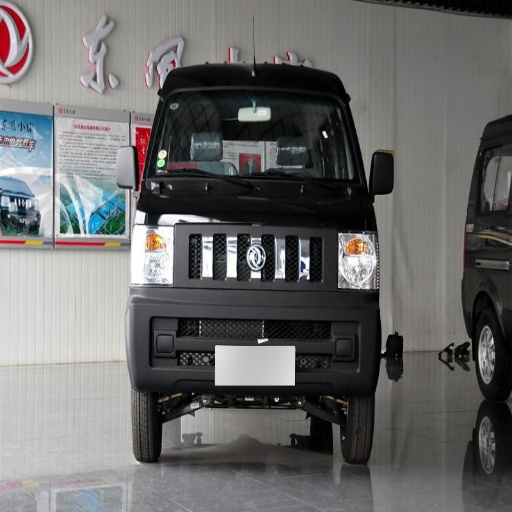front_bumper: (132, 304, 325, 392), (335, 292, 378, 387)
hood: (313, 197, 363, 271)
trunk: (161, 179, 318, 271), (159, 284, 213, 335)
